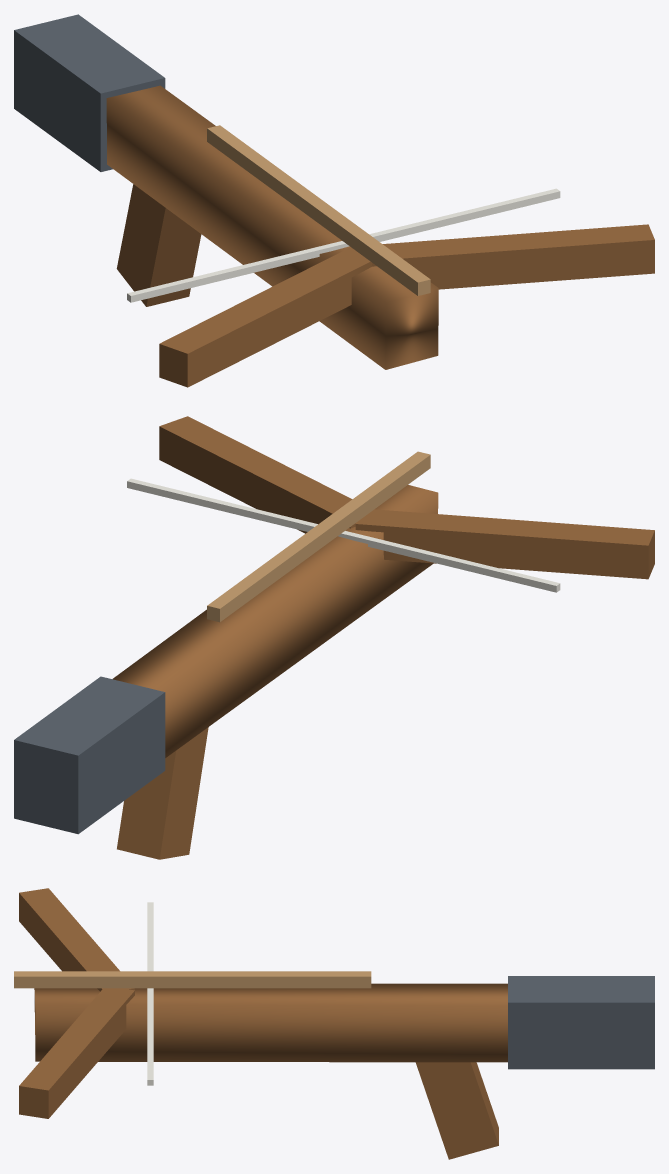
The model's file is weapon_crossbow_t1.glb.
The picture shows the model from 3 angles, top to bottom: view 1: azimuth 30°, elevation 25°; view 2: azimuth 150°, elevation 25°; view 3: azimuth 270°, elevation 25°; orthographic projection. The views are drawn at different scales.
Parts seen in each view (by area): view 1: item_wood1, item_darkMetal1, item_bolt, item_string; view 2: item_wood1, item_darkMetal1, item_bolt, item_string; view 3: item_wood1, item_darkMetal1, item_bolt, item_string.
Part boxes in pixels (x1,y1,x2,y2): item_wood1: (106,85,654,387); item_darkMetal1: (14,14,165,171); item_bolt: (207,125,430,295); item_string: (127,188,560,302); item_wood1: (112,416,654,859); item_darkMetal1: (14,676,165,834); item_bolt: (207,451,430,622); item_string: (127,478,560,592); item_wood1: (19,888,507,1159); item_darkMetal1: (508,976,654,1069); item_bolt: (14,971,371,988); item_string: (147,902,153,1085).
Bounding box in the file's own units: 0.4557 × 0.1857 × 0.61.
